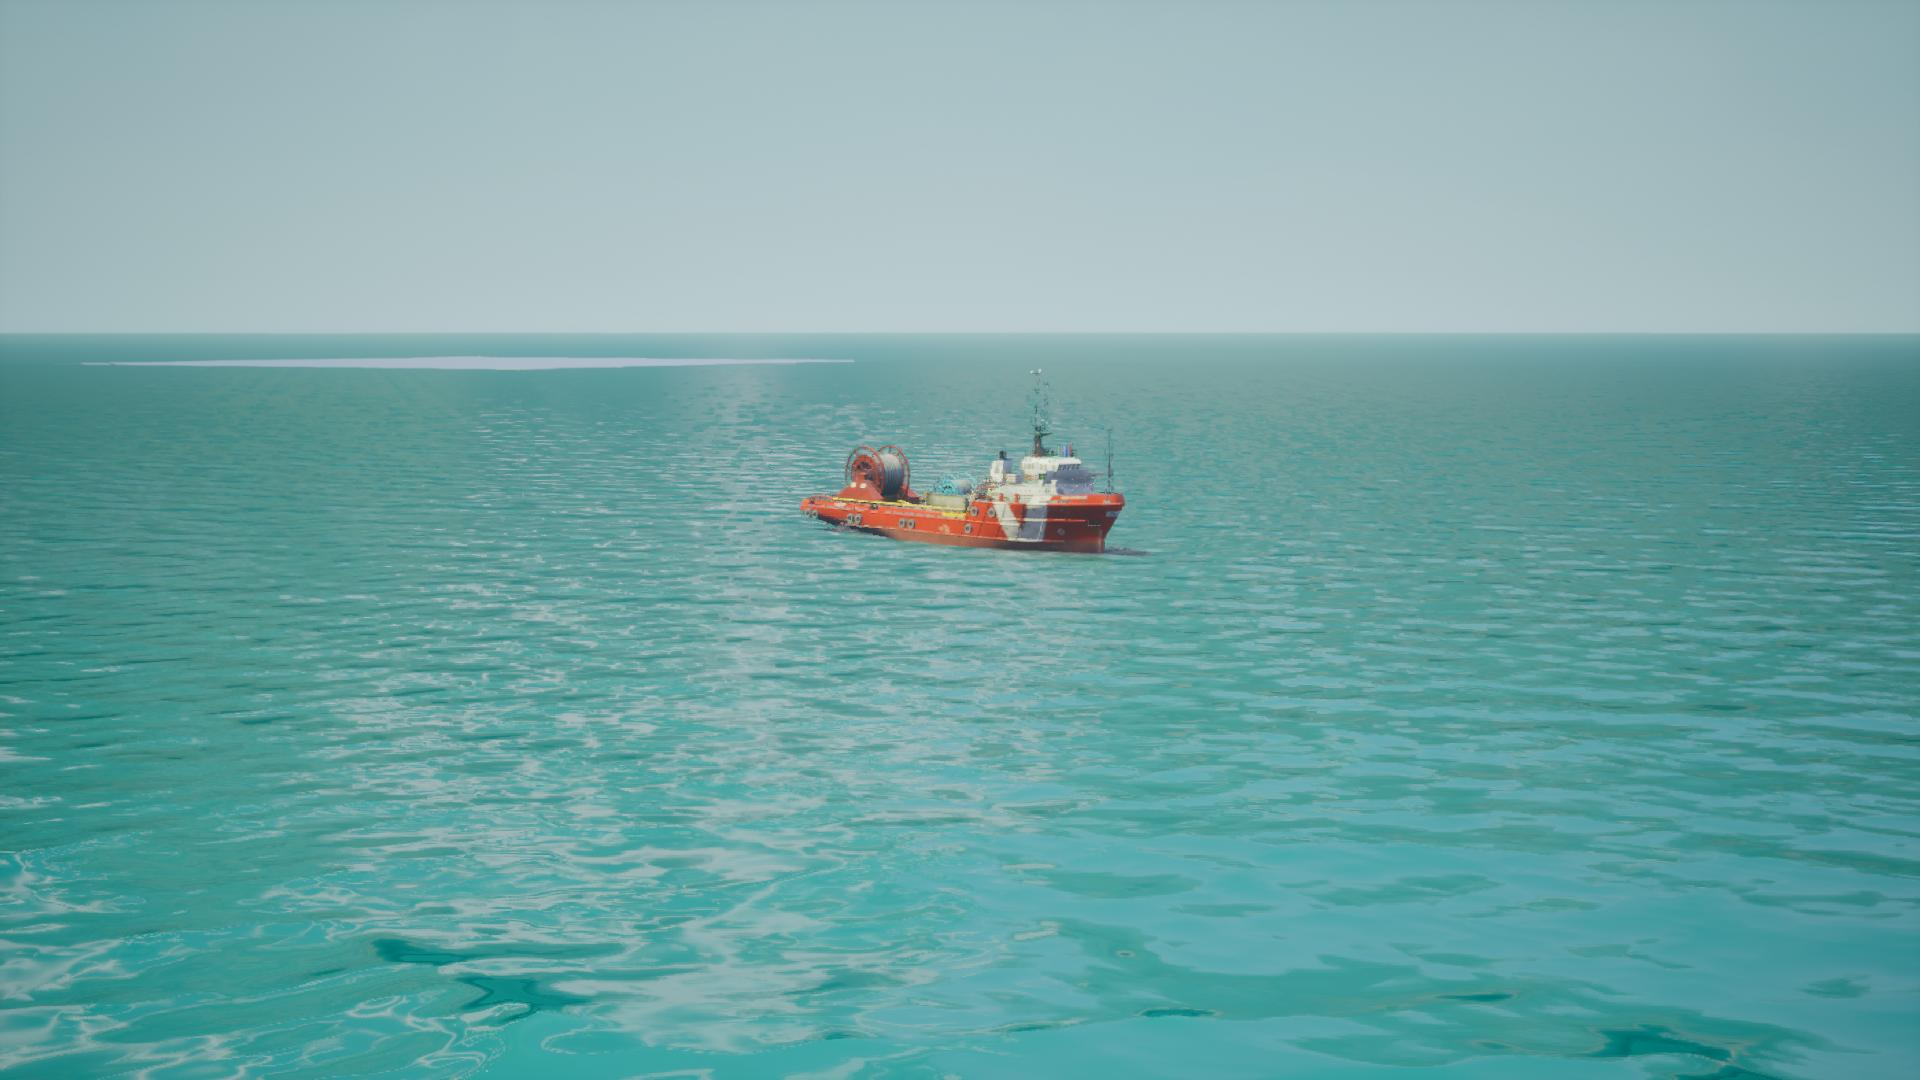Tug Boat: (802, 373, 1130, 559)
